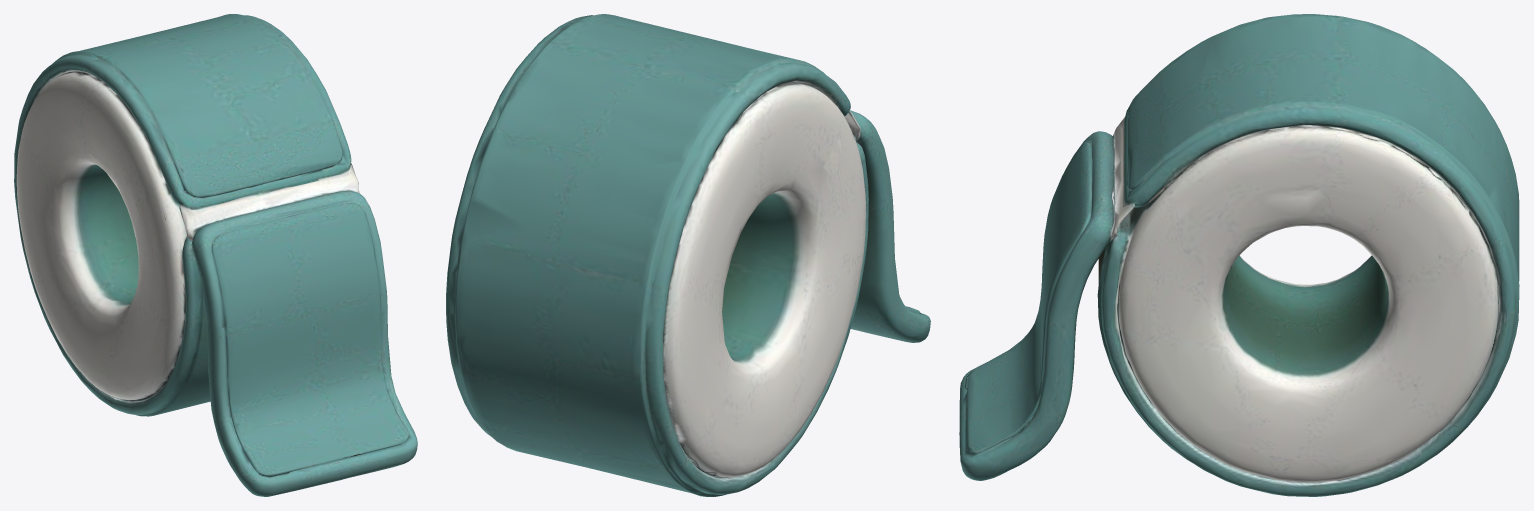
File: obj-label.glb
The picture shows the model from 3 angles, left to right: view 1: azimuth 30°, elevation 25°; view 2: azimuth 150°, elevation 25°; view 3: azimuth 270°, elevation 25°; orthographic projection. The views are drawn at different scales.
Visible parts, largest first — view 1: tripo_node_a3083fad-93fa-4615-8efe-c7d2594b80db; view 2: tripo_node_a3083fad-93fa-4615-8efe-c7d2594b80db; view 3: tripo_node_a3083fad-93fa-4615-8efe-c7d2594b80db.
Part boxes in pixels (bbox=[...]): tripo_node_a3083fad-93fa-4615-8efe-c7d2594b80db: bbox=[14, 14, 417, 496]; tripo_node_a3083fad-93fa-4615-8efe-c7d2594b80db: bbox=[446, 14, 930, 496]; tripo_node_a3083fad-93fa-4615-8efe-c7d2594b80db: bbox=[959, 14, 1519, 496].
Size of the model in its own units: 0.4565 by 0.7602 by 0.9792.
Materials: 1 (1 with a texture image).
